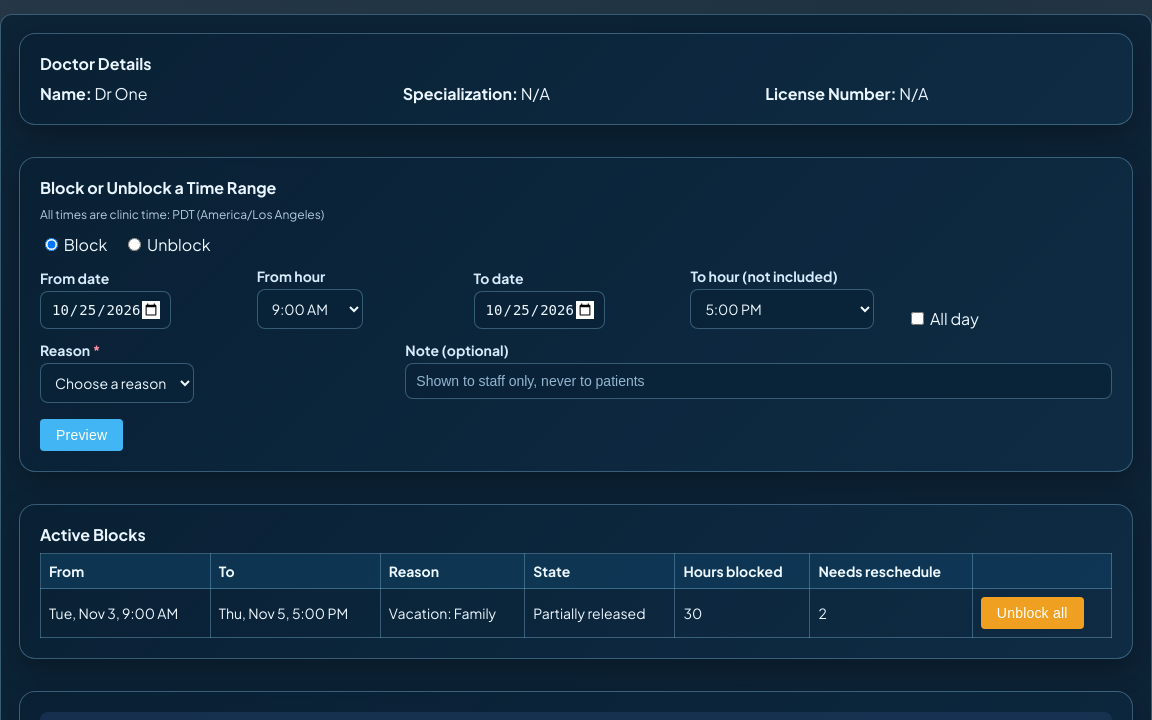
it: ManageAvailabilityPage range block › lists active blocks and 'Unblock all' previews the block's own range
Expected: the heading "Block or Unblock a Time Range" is shown, x1=40 y1=177 x2=276 y2=198
Expected: the text "Vacation: Family" shows "Partially released", x1=533 y1=604 x2=646 y2=622
Step 1. Click the button "Unblock all" → (1032, 613), box x1=981 y1=597 x2=1084 y2=629
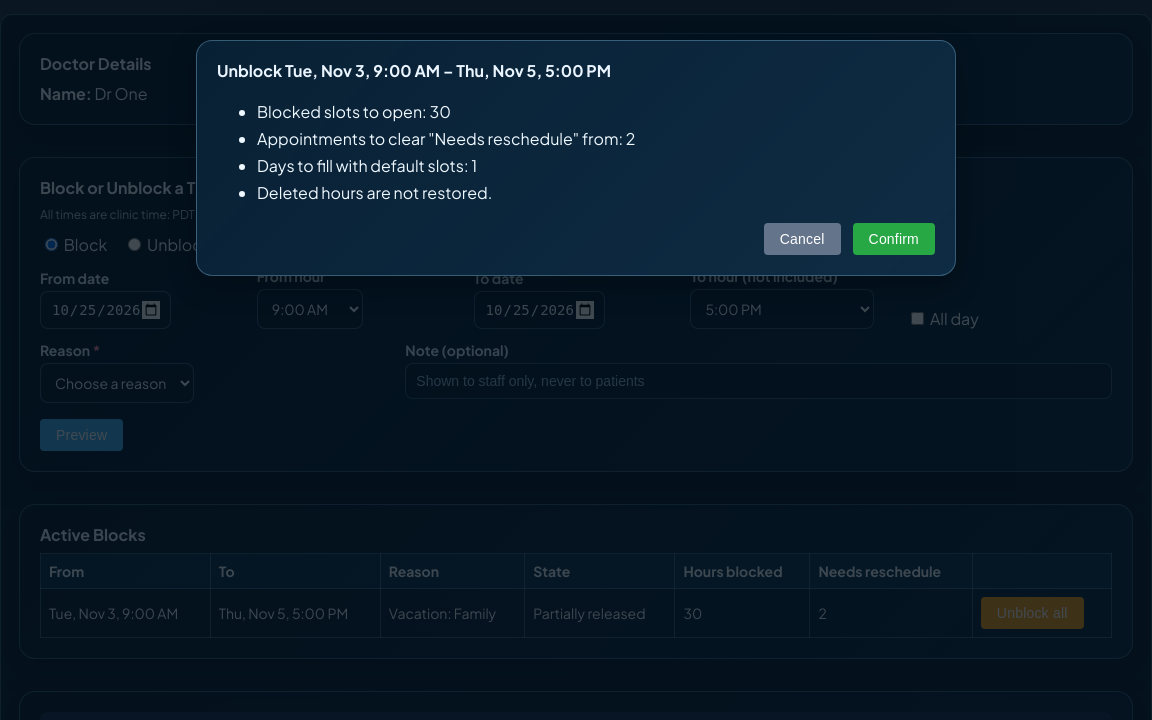
Result: the list with test id "range-counts" shows "Blocked slots to open: 30" at x1=257 y1=101 x2=635 y2=203
Result: the list with test id "range-counts" shows "Deleted hours are not restored." at x1=257 y1=182 x2=492 y2=203
